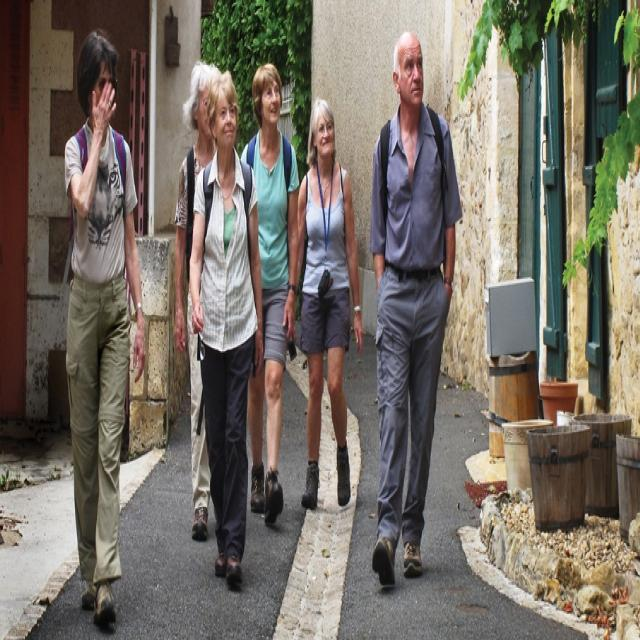body: (366, 23, 464, 594), (62, 26, 150, 633), (186, 65, 268, 595), (285, 94, 365, 514), (236, 57, 302, 530), (172, 56, 224, 545)
